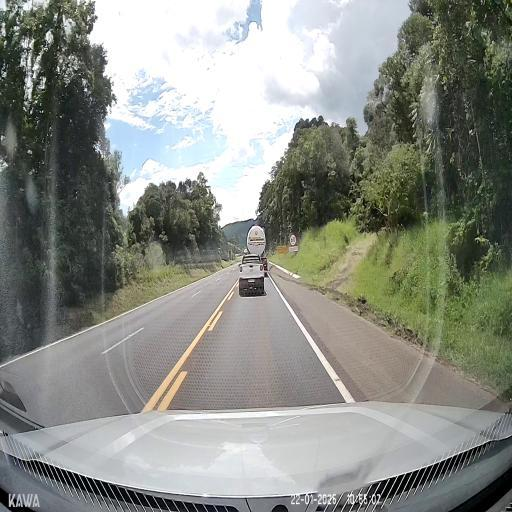R-19: (290, 234, 296, 246)
